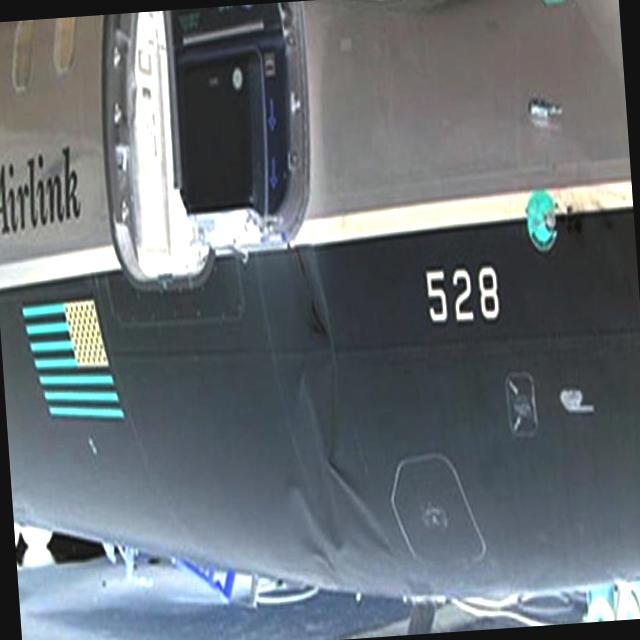dent: (286, 452, 394, 594)
